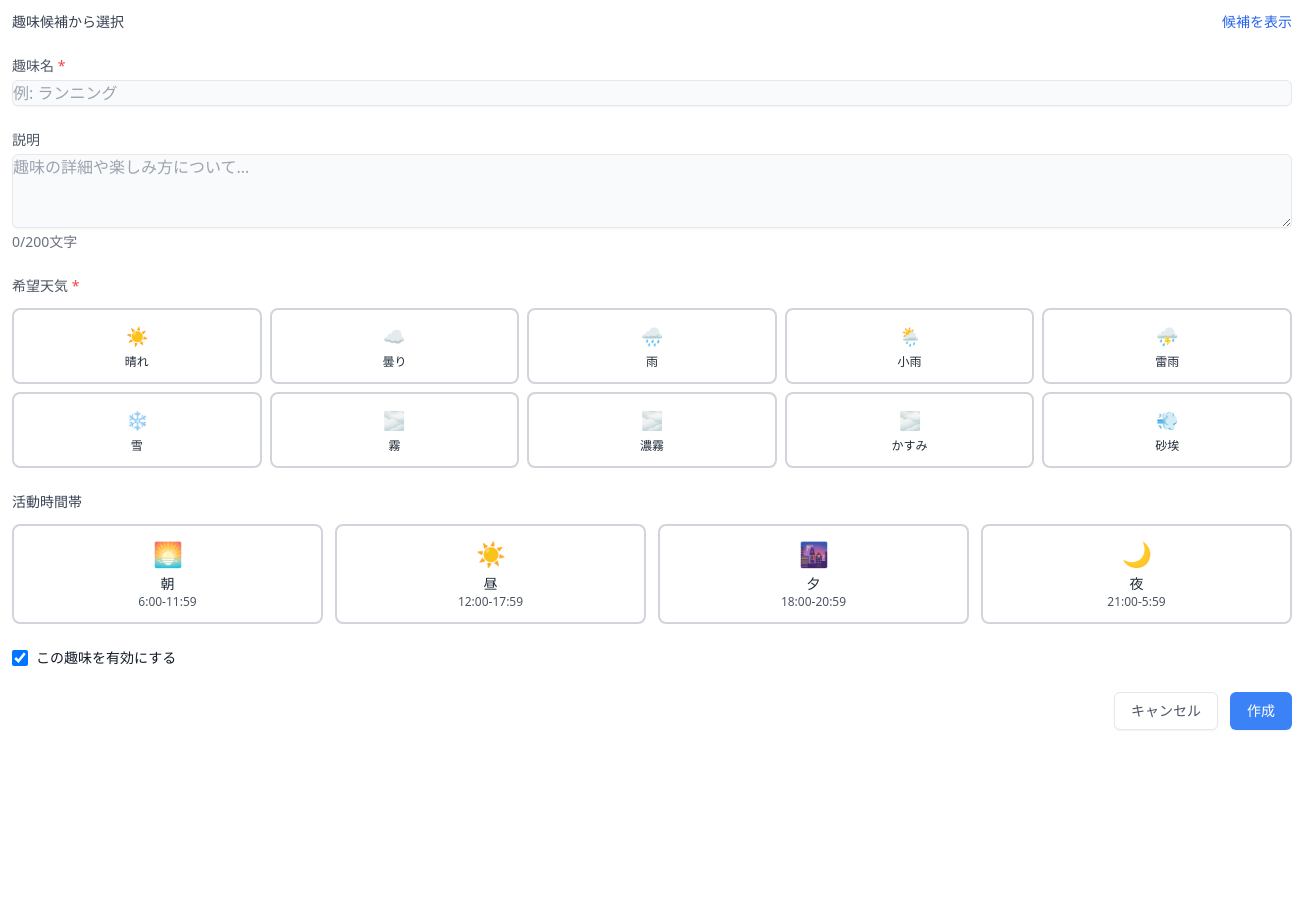
Test: HobbyForm › should handle character limits
The width and height of the screenshot is (1304, 912).
// Test character counter for description
Type "テスト説明" into the text box labelled "説明" at (652, 191), box [12,154,1292,228]
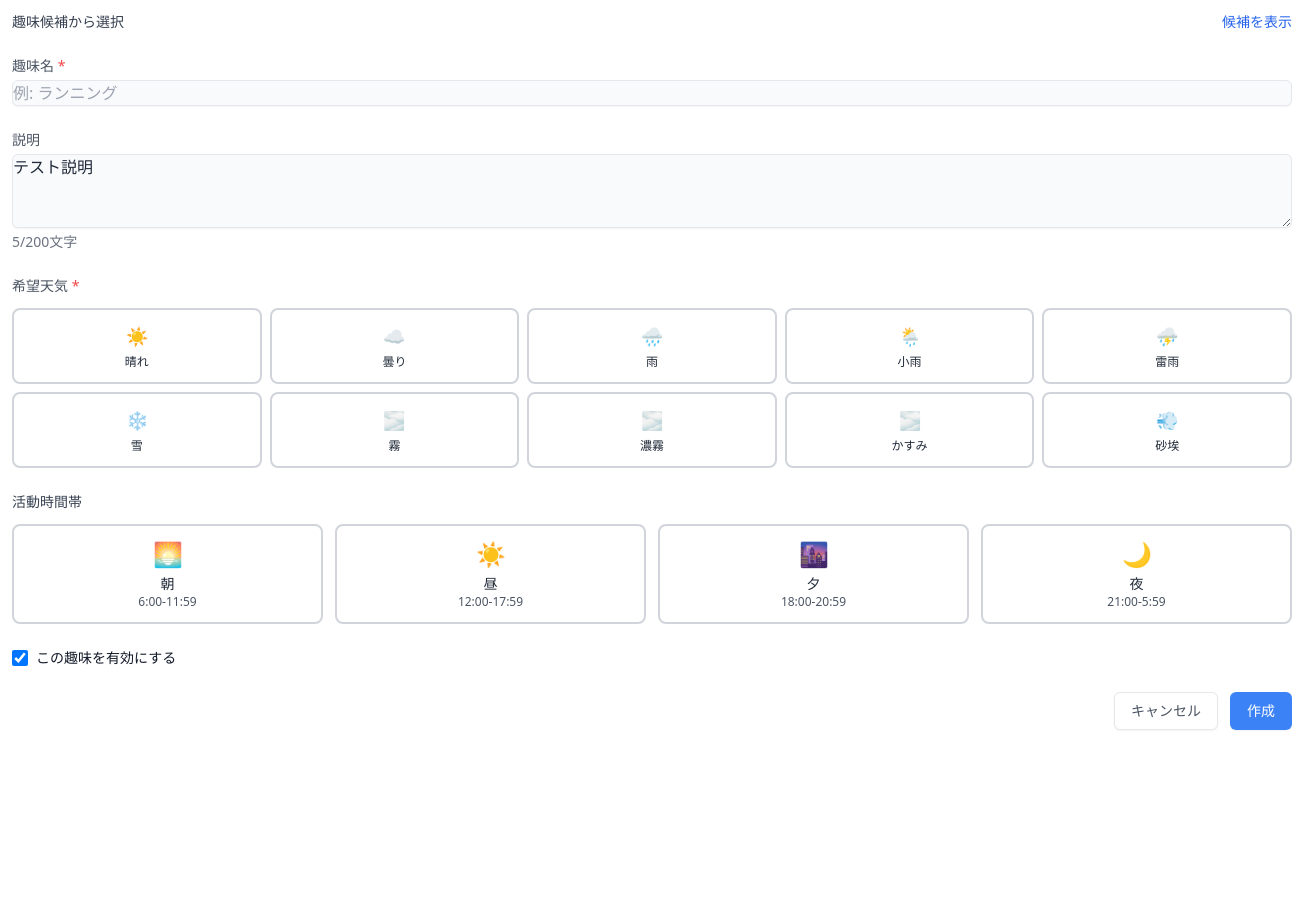
Now the text "5/200文字" is shown, box [12,232,77,251]
